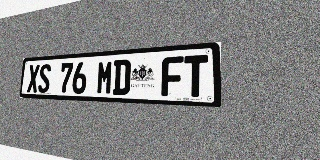6: (72, 62, 88, 94)
7: (59, 62, 73, 94)
D: (112, 59, 131, 95)
F: (161, 56, 184, 97)
M: (96, 60, 114, 95)
S: (38, 64, 51, 93)
T: (184, 55, 208, 97)
X: (27, 64, 40, 93)
